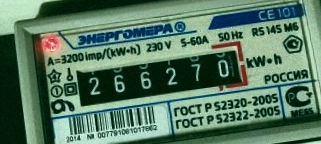0: (215, 57, 230, 78)
2: (85, 75, 103, 96), (162, 64, 179, 86)
6: (111, 71, 127, 94), (138, 69, 153, 90)
7: (188, 61, 203, 82)
screen: (65, 37, 254, 114)
